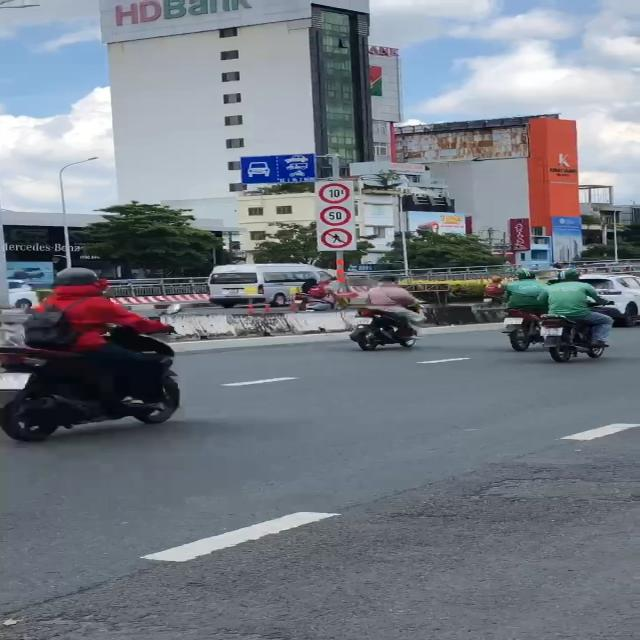Bien bao cam nguoi di bo: (320, 227, 356, 249)
Bien bao toc do toi da cho phep: (315, 204, 357, 227)
